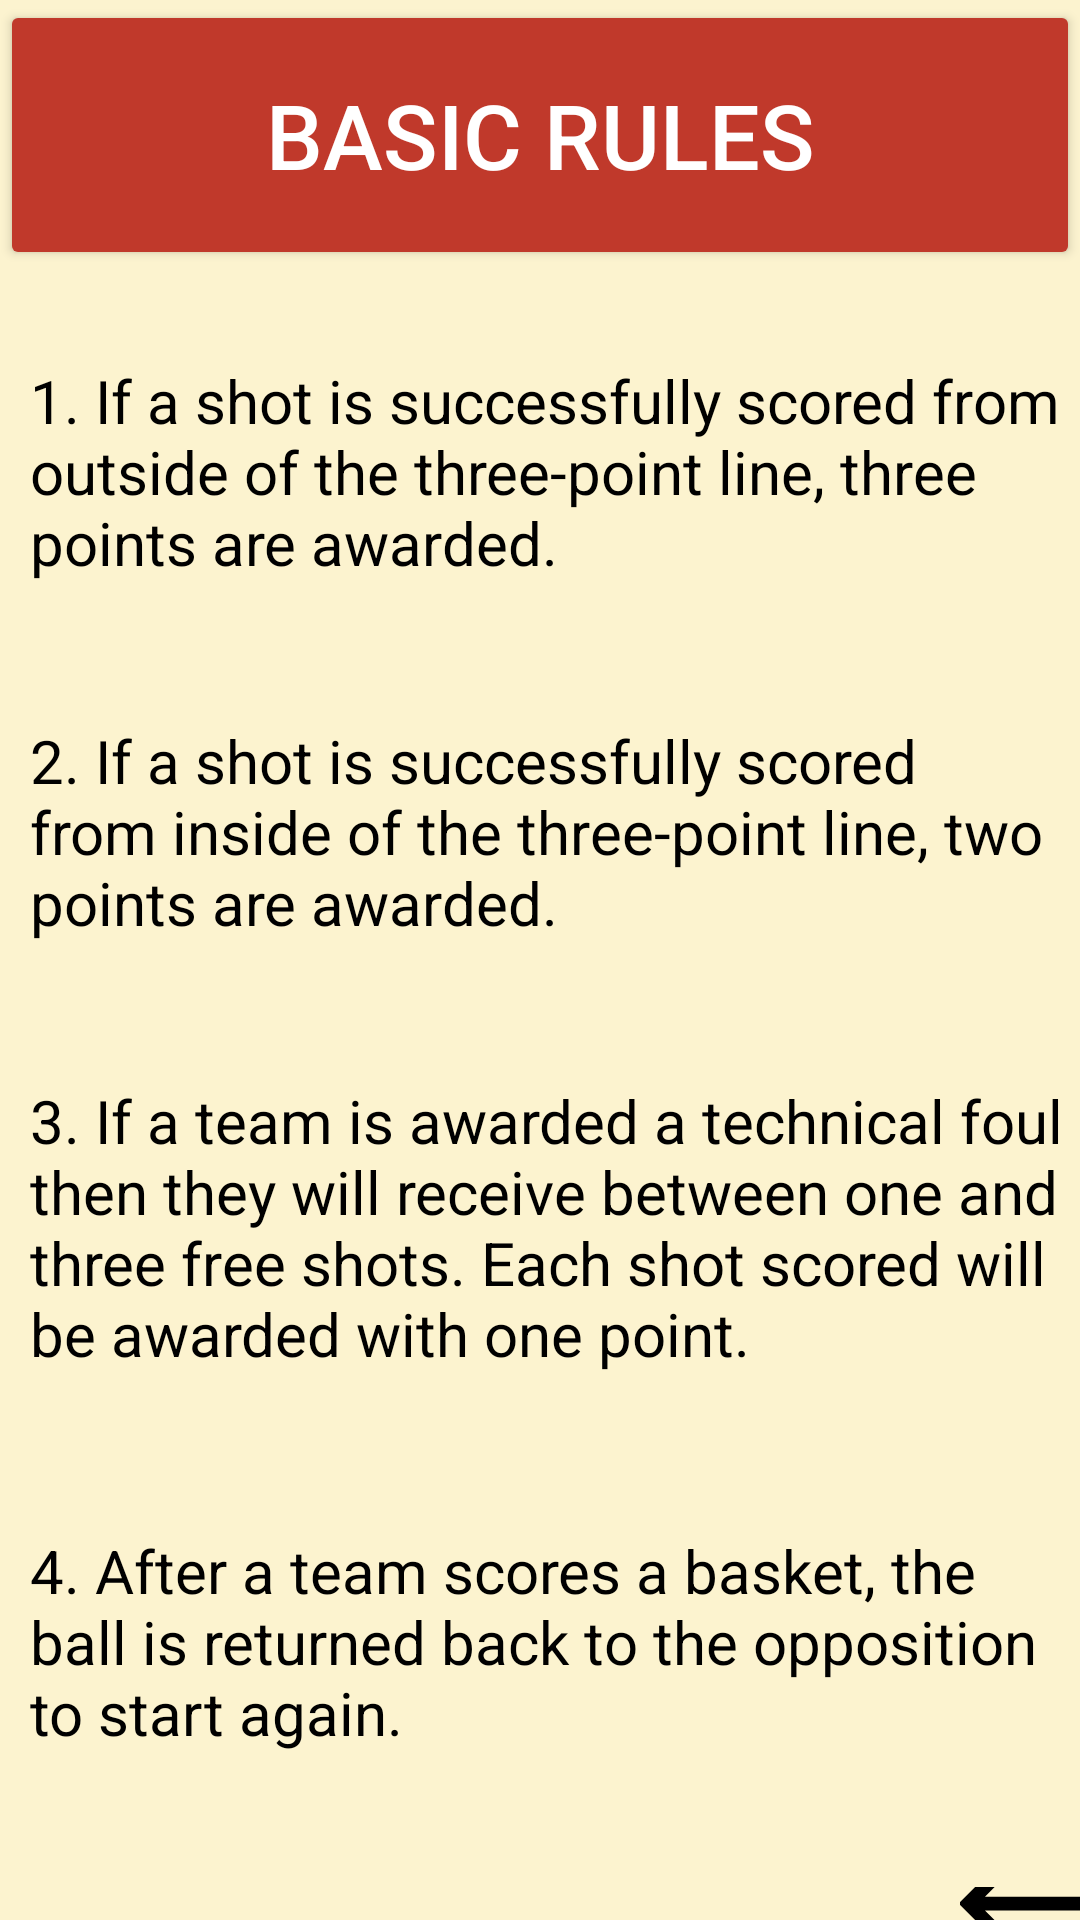

Screen size 1080x1920. Icon name, then its box in pixels as (x1, y1, x2, y2):
keyboard backspace: (960, 1887, 1080, 1920)
